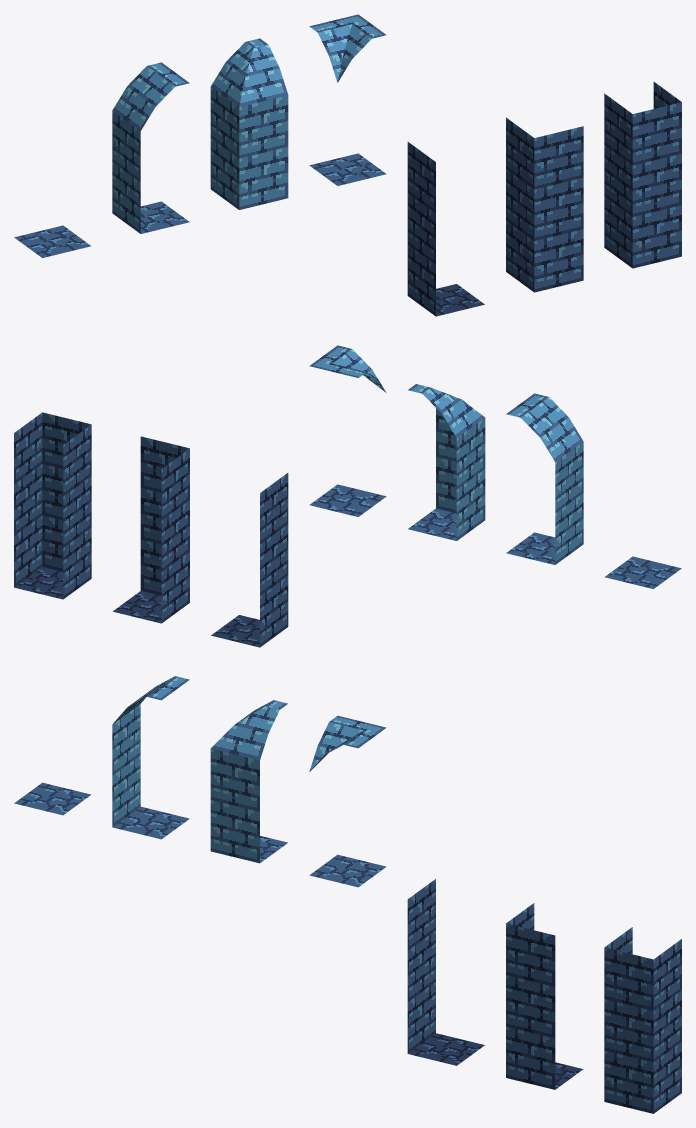
The model's file is walls-tiles.glb.
3 renders of one model, top to bottom at view 1: azimuth 30°, elevation 25°; view 2: azimuth 150°, elevation 25°; view 3: azimuth 330°, elevation 25°, orthographic.
Visible parts, largest first — view 1: Hole-UTurn-col, Hole-Corner-col, Wall-Corner-col, Wall-Side-col, Hole-Side-col, Wall-Outer-col, Ground-col; view 2: Hole-UTurn-col, Hole-Corner-col, Wall-Corner-col, Wall-Side-col, Hole-Side-col, Wall-Outer-col, Ground-col; view 3: Hole-UTurn-col, Hole-Corner-col, Wall-Corner-col, Hole-Side-col, Wall-Side-col, Wall-Outer-col, Ground-col.
Part boxes in pixels (x1,y1,x2,y2): Hole-UTurn-col: (604,82,681,268); Hole-Corner-col: (506,117,583,292); Wall-Corner-col: (210,38,288,209); Wall-Side-col: (112,62,189,233); Hole-Side-col: (407,142,484,316); Wall-Outer-col: (309,14,386,185); Ground-col: (14,225,91,257); Hole-UTurn-col: (14,412,91,599); Hole-Corner-col: (113,436,189,623); Wall-Corner-col: (408,384,485,540); Wall-Side-col: (506,393,583,564); Hole-Side-col: (211,473,288,647); Wall-Outer-col: (309,345,386,516); Ground-col: (604,556,681,588); Hole-UTurn-col: (604,927,681,1113); Hole-Corner-col: (506,903,583,1089); Wall-Corner-col: (210,700,287,863); Hole-Side-col: (407,879,484,1065); Wall-Side-col: (112,676,189,839); Wall-Outer-col: (309,715,386,887); Ground-col: (14,782,90,815).
Bounding box in the file's own units: 13 × 5.7 × 1.
Materials: 1 (1 with a texture image).
